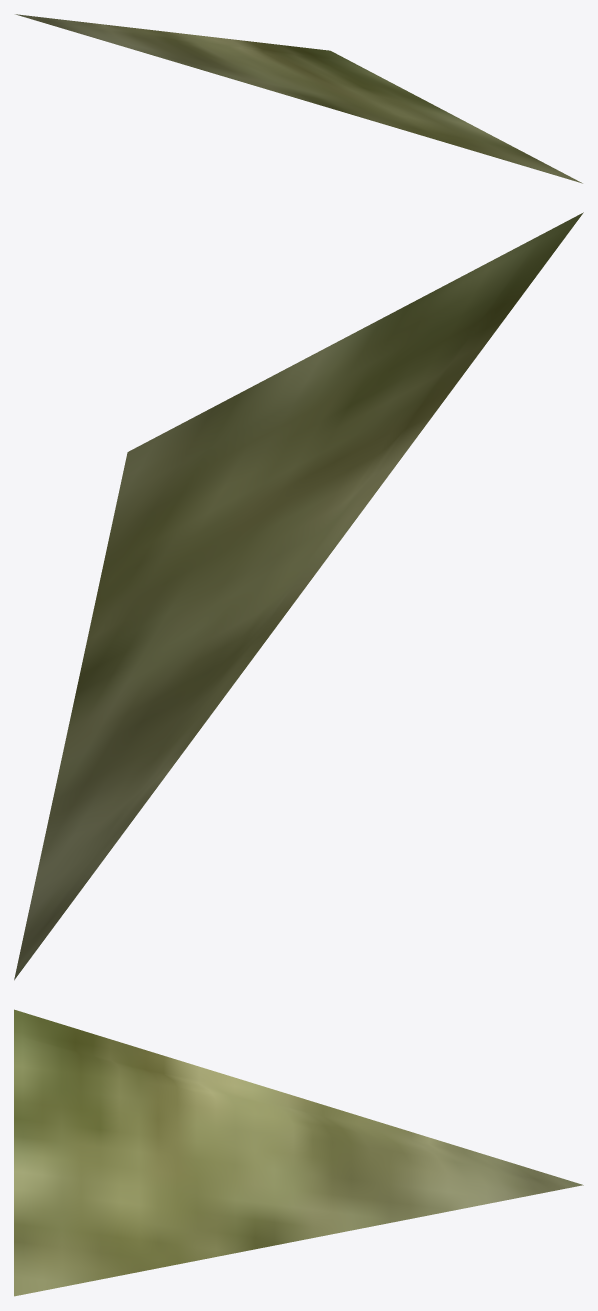
3 views of the same model, one above another, from view 1: azimuth 30°, elevation 25°; view 2: azimuth 150°, elevation 25°; view 3: azimuth 270°, elevation 25° (orthographic). The views are drawn at different scales.
Size of the model in its own units: 0.1576 by 0.1159 by 0.3409.
1 material, 1 textured.
